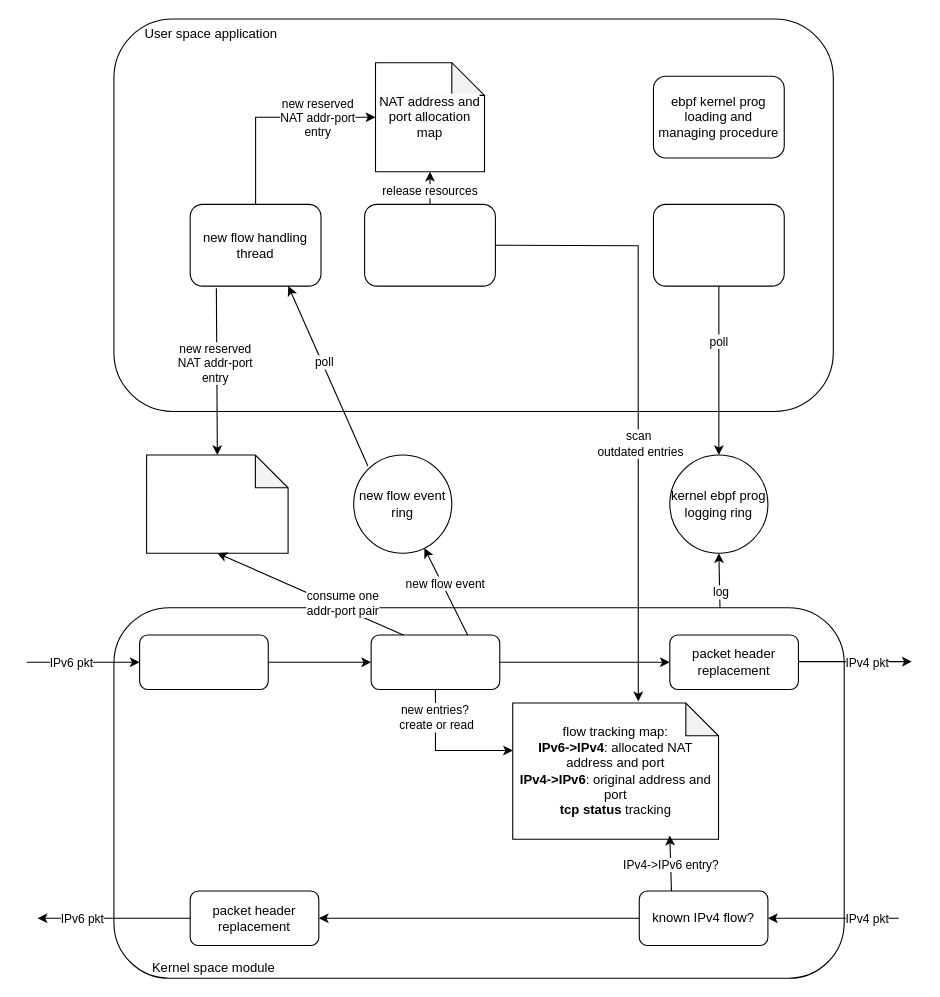
Some shapes in this 940 by 997 pixel diagram are drawn without their labels. Each missing label, with the centre of its shape:
ebpf kernel log thread: [718,244]
flow handling: [435,661]
flow tracking map and NAT allocation map management thread: [429,244]
IPv6 flow dst with prefix 64:ff9b:: ?: [203,661]
reserved NAT address and port map: [217,503]
